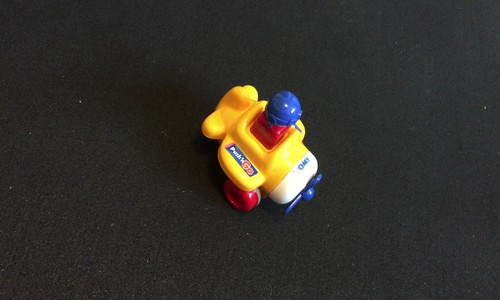toy: (192, 79, 329, 224)
